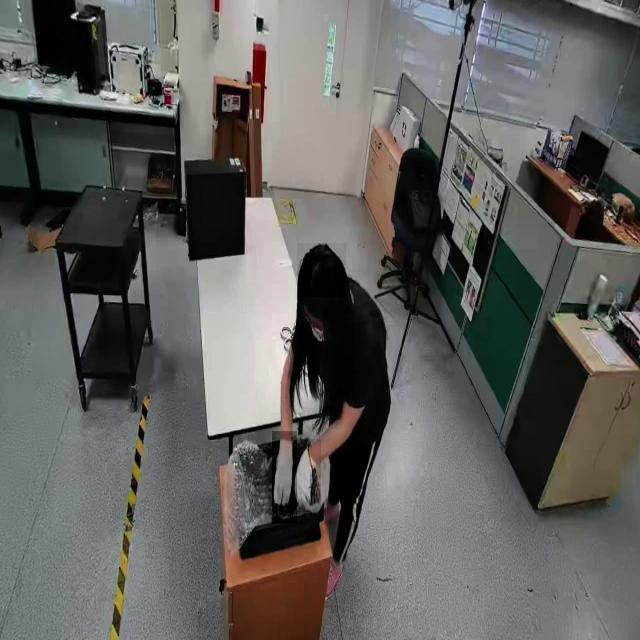hand_glove: (272, 431, 298, 525), (294, 439, 322, 513)
head_nohelmet: (297, 242, 347, 298)
person: (270, 240, 396, 610)
